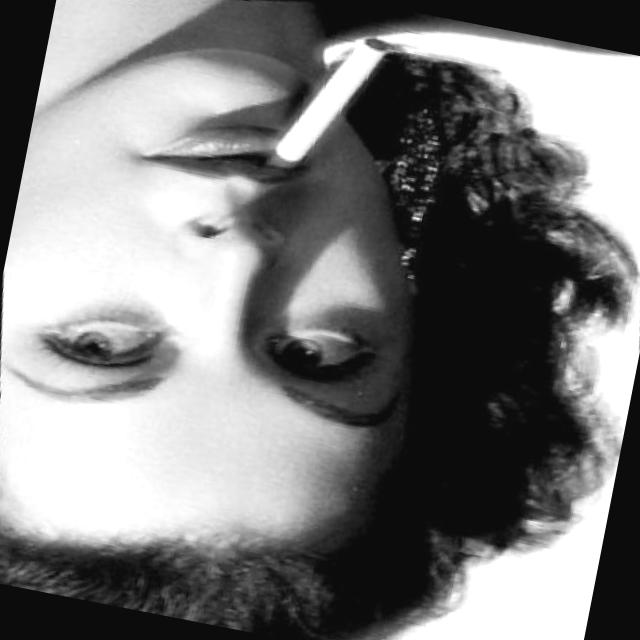smoke: (230, 7, 409, 193)
